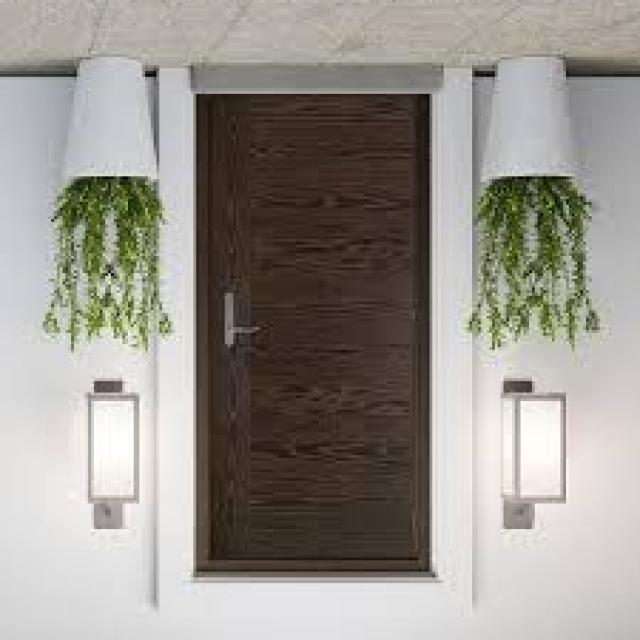door: (198, 91, 434, 575)
